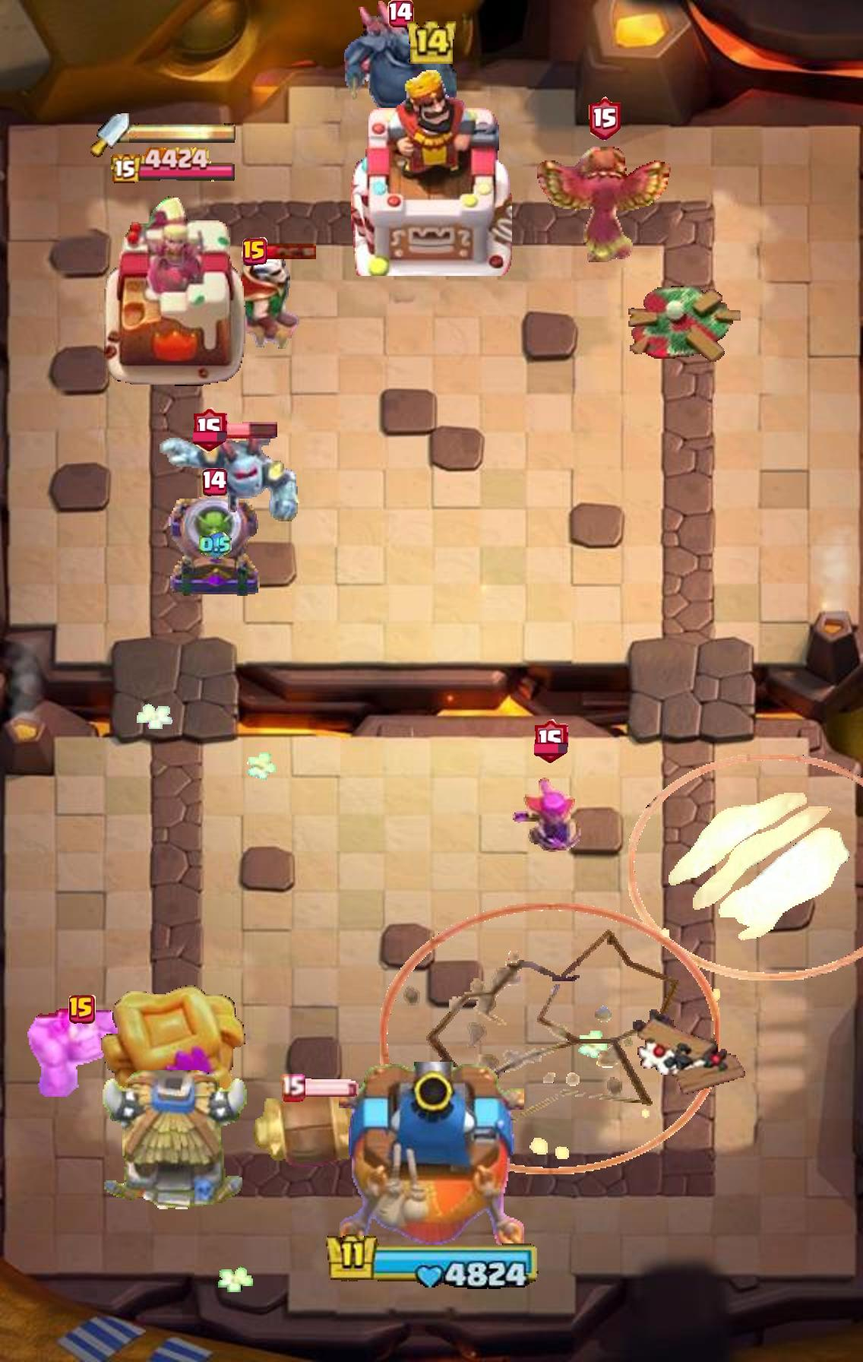elixir: (199, 531, 232, 559)
